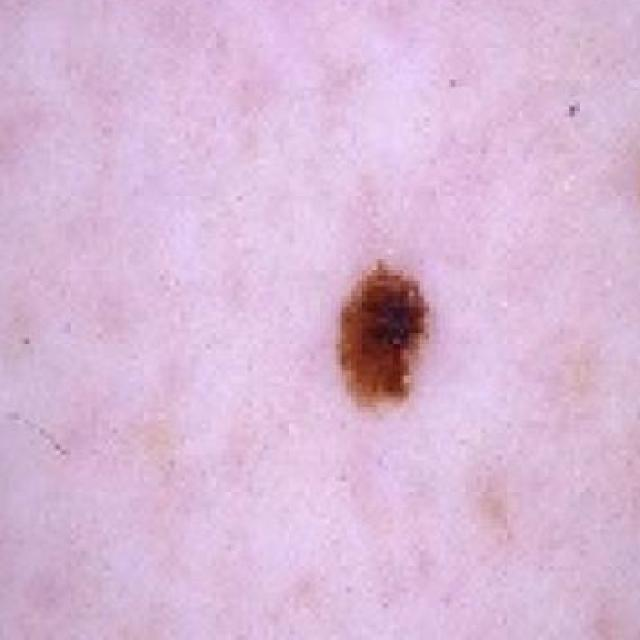MEL: (300, 0, 640, 403)
